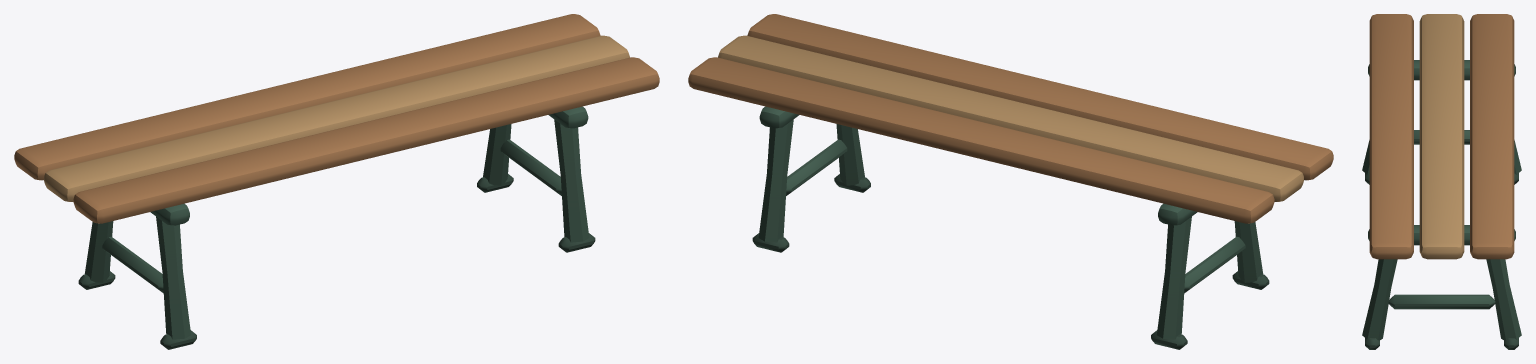
The model's file is plaza-bench.glb.
3 views of the same model, side by side, from view 1: azimuth 30°, elevation 25°; view 2: azimuth 150°, elevation 25°; view 3: azimuth 270°, elevation 25° (orthographic). The views are drawn at different scales.
Parts seen in each view (by area): view 1: plaza-bench; view 2: plaza-bench; view 3: plaza-bench.
Boxes of the visible parts, bbox=[...] form: plaza-bench: bbox=[14, 14, 659, 349]; plaza-bench: bbox=[688, 14, 1333, 349]; plaza-bench: bbox=[1362, 14, 1521, 349].
Bounding box in the file's own units: 1.88 × 0.5 × 0.5405.
